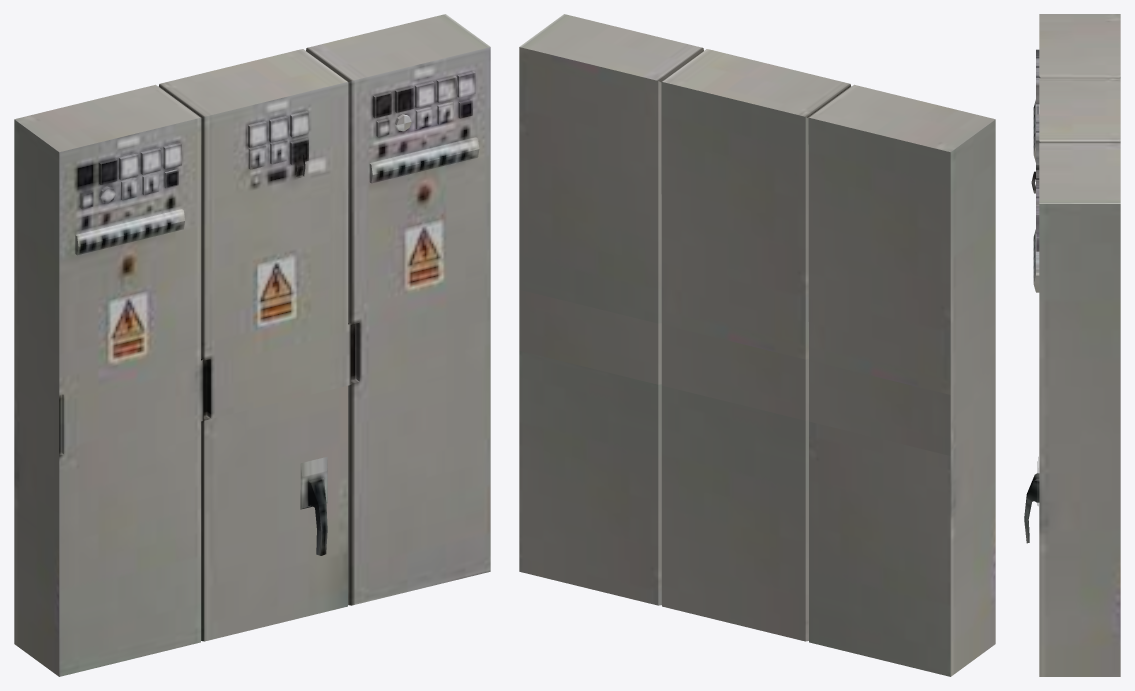
The model's file is Panel_Electrico.fbx.
The picture shows the model from 3 angles, left to right: view 1: azimuth 30°, elevation 25°; view 2: azimuth 150°, elevation 25°; view 3: azimuth 270°, elevation 25°; orthographic projection. The views are drawn at different scales.
Parts seen in each view (by area): view 1: Panel_Electrico; view 2: Panel_Electrico; view 3: Panel_Electrico.
Part boxes in pixels (left/top/right/bottom): Panel_Electrico: left=14, top=14, right=490, bottom=676; Panel_Electrico: left=519, top=14, right=995, bottom=676; Panel_Electrico: left=1024, top=14, right=1120, bottom=676.
Bounding box in the file's own units: 147 × 171 × 31.58.
1 material, 1 textured.
